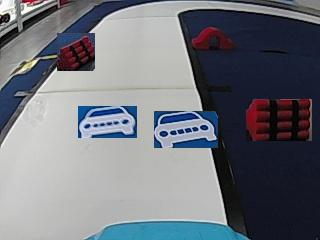bridge: (193, 26, 232, 49)
